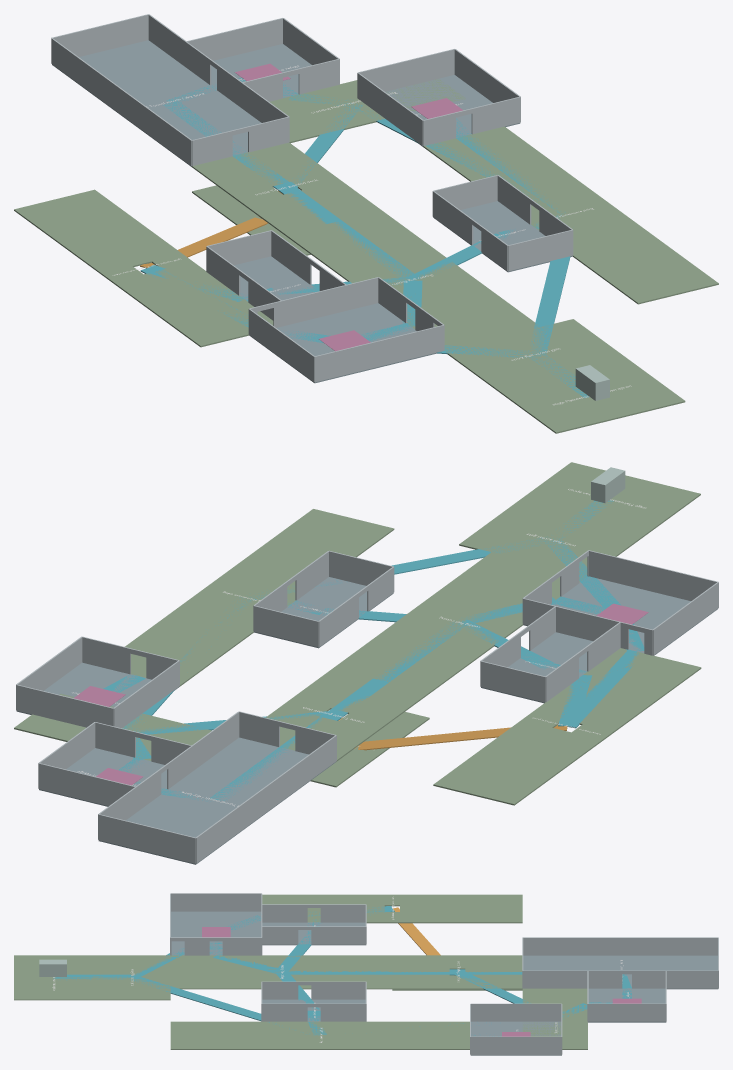
The model's file is rough-shell.glb.
The picture shows the model from 3 angles, top to bottom: view 1: azimuth 30°, elevation 25°; view 2: azimuth 150°, elevation 25°; view 3: azimuth 270°, elevation 25°; orthographic projection. The views are drawn at different scales.
Visible parts, largest first — view 1: Floor siding, Floor cutting, Floor tunnel, Floor entry, Floor stage, Floor crossing, Wall tunnel W, Floor signal, Wall signal S, Floor west-return.002, Floor west-return, Wall signal N.001 (+49 smaller); view 2: Floor siding, Floor cutting, Floor tunnel, Floor entry, Floor stage, Wall tunnel W, Floor signal, Wall signal S, Floor west-return, Floor west-return.002, Floor west-return.005, Floor crossing (+49 smaller); view 3: Floor siding, Floor cutting, Wall tunnel W, Floor entry, Floor tunnel, Floor stage, Floor crossing, Floor signal, Wall tunnel E.001, Wall store E, Wall signal W, Wall store W (+39 smaller).
Part boxes in pixels (<box>): Floor siding: <box>423,126,718,304</box>; Floor cutting: <box>285,210,537,350</box>; Floor tunnel: <box>52,40,261,166</box>; Floor entry: <box>445,319,628,392</box>; Floor stage: <box>500,360,685,433</box>; Floor crossing: <box>269,79,465,143</box>; Wall tunnel W: <box>51,38,191,165</box>; Floor signal: <box>249,303,436,383</box>; Wall signal S: <box>314,325,444,382</box>; Floor west-return.002: <box>113,274,231,347</box>; Floor west-return: <box>14,202,131,274</box>; Wall signal N.001: <box>273,277,378,327</box>; Floor siding: <box>125,509,394,686</box>; Floor cutting: <box>333,552,586,693</box>; Floor tunnel: <box>98,737,336,864</box>; Floor entry: <box>459,503,644,574</box>; Floor stage: <box>515,462,700,535</box>; Wall tunnel W: <box>196,735,336,863</box>; Floor signal: <box>523,577,718,655</box>; Wall signal S: <box>588,550,718,600</box>; Floor west-return: <box>483,732,602,805</box>; Floor west-return.002: <box>583,660,701,732</box>; Floor west-return.005: <box>433,720,551,793</box>; Floor crossing: <box>14,693,211,760</box>; Floor siding: <box>170,1021,469,1049</box>; Floor cutting: <box>170,955,392,989</box>; Wall tunnel W: <box>523,937,717,955</box>; Floor entry: <box>92,955,170,1000</box>; Floor tunnel: <box>523,955,717,989</box>; Floor stage: <box>14,955,92,1000</box>; Floor crossing: <box>522,988,587,1049</box>; Floor signal: <box>171,911,261,955</box>; Wall tunnel E.001: <box>522,970,622,988</box>; Wall store E: <box>470,1036,561,1054</box>; Wall signal W: <box>171,893,261,911</box>; Wall store W: <box>471,1003,561,1021</box>.
Bounding box in the file's own units: 58.08 × 6.16 × 108.
